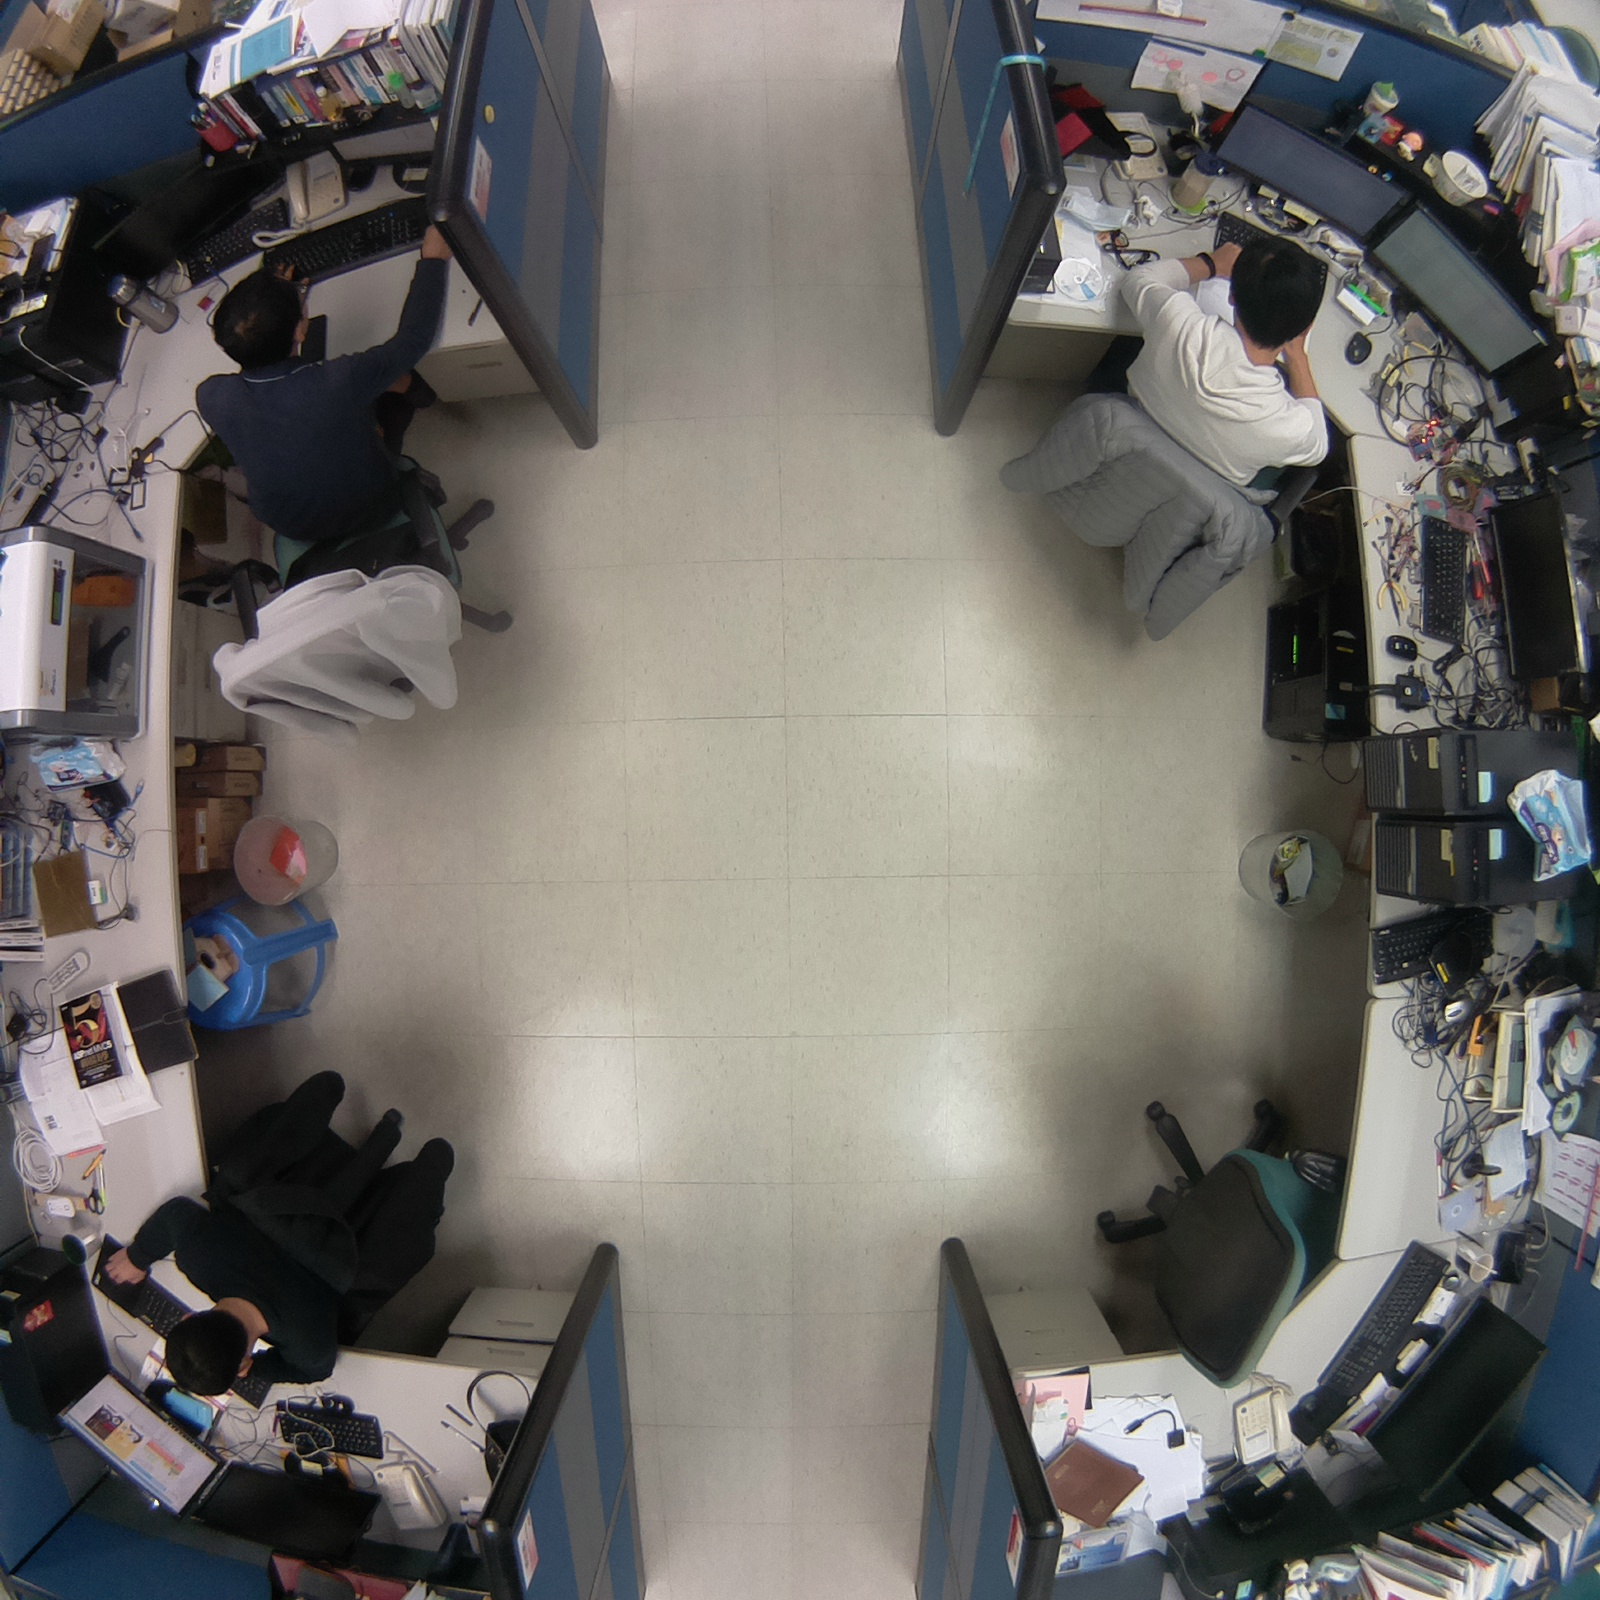chair: (1081, 1087, 1357, 1407)
sitting: (183, 190, 530, 747), (992, 223, 1349, 659), (92, 1059, 478, 1411)
